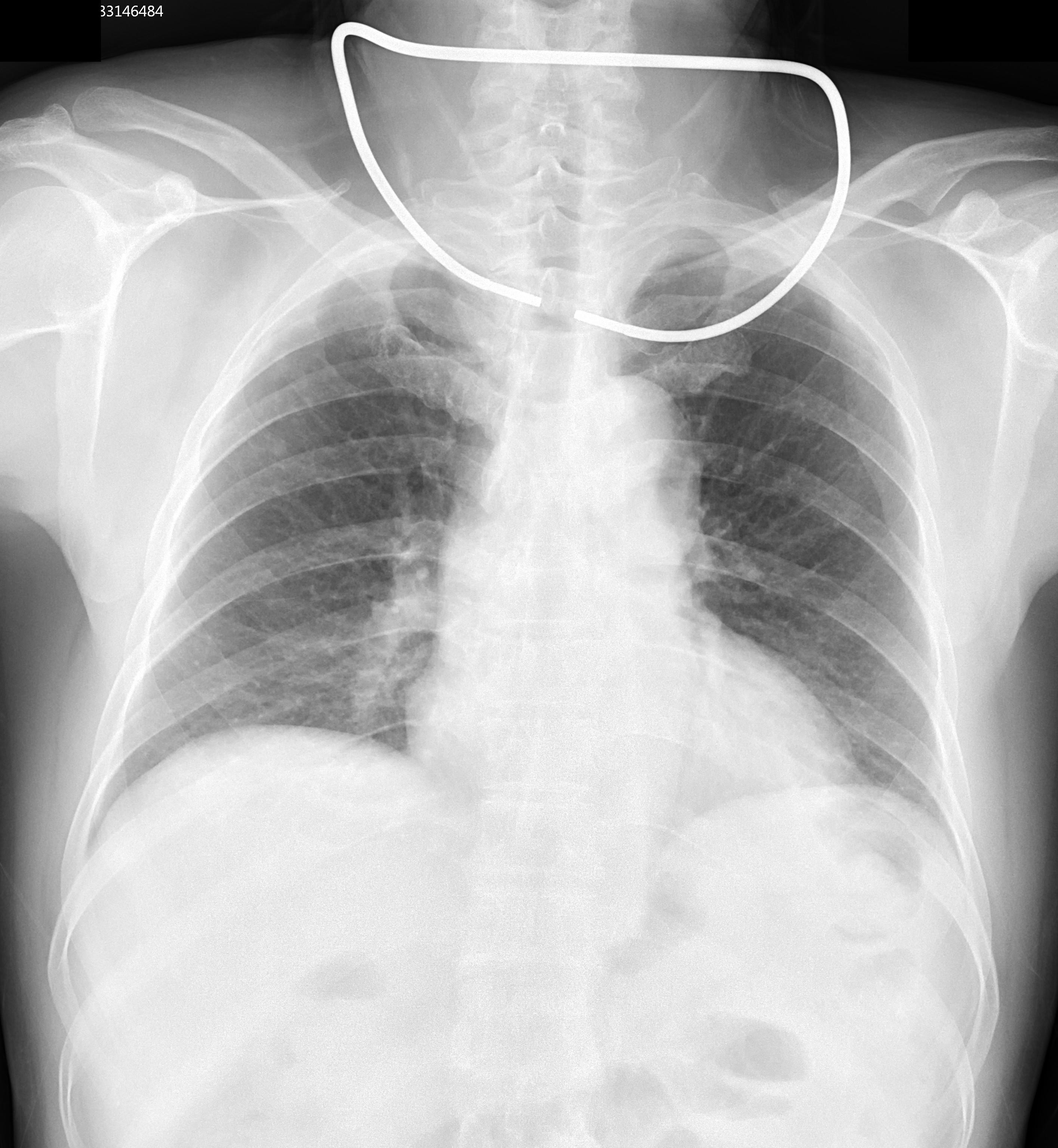Aortic enlargement: (570, 376, 696, 503)
